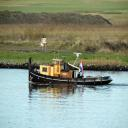tugboat: (29, 49, 115, 94)
